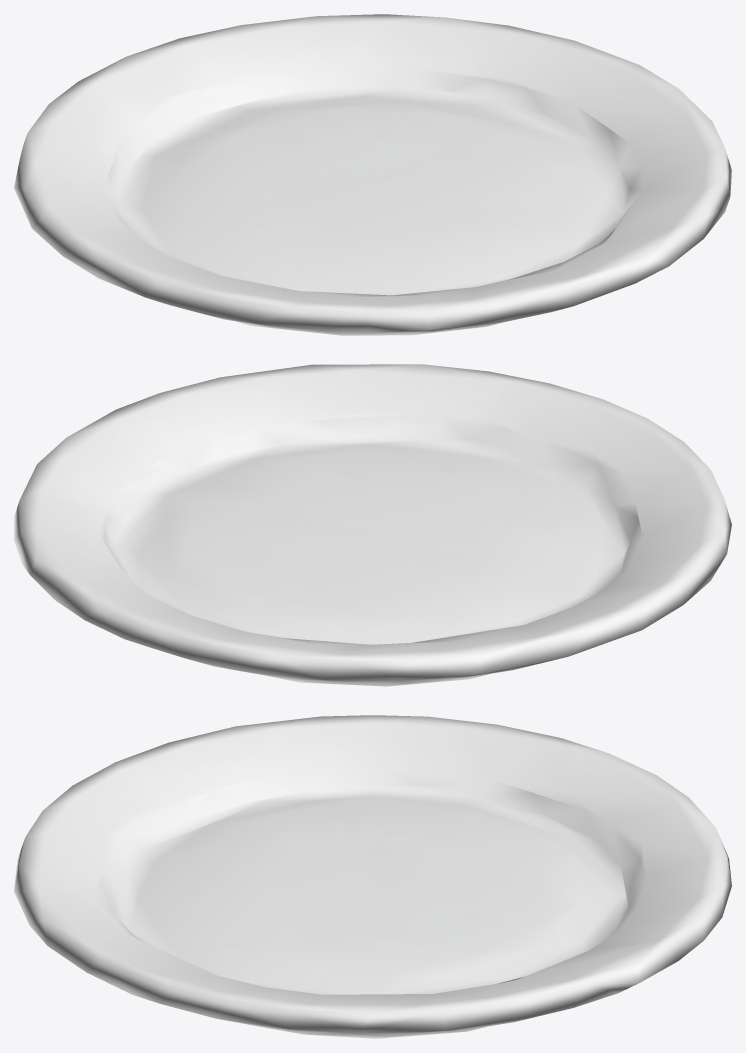
Rendered from Plate.fbx.
3 views of the same model, one above another, from view 1: azimuth 30°, elevation 25°; view 2: azimuth 150°, elevation 25°; view 3: azimuth 270°, elevation 25° (orthographic).
Parts seen in each view (by area): view 1: tripo_node_3a6b61c7; view 2: tripo_node_3a6b61c7; view 3: tripo_node_3a6b61c7.
Boxes of the visible parts, <box> form: tripo_node_3a6b61c7: <box>14,14,731,335</box>; tripo_node_3a6b61c7: <box>14,364,731,686</box>; tripo_node_3a6b61c7: <box>14,715,731,1038</box>.
Size of the model in its own units: 1 by 0.0908 by 1.
Materials: 1 (1 with a texture image).
